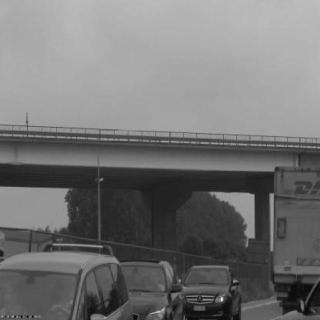other: (274, 162, 320, 286)
